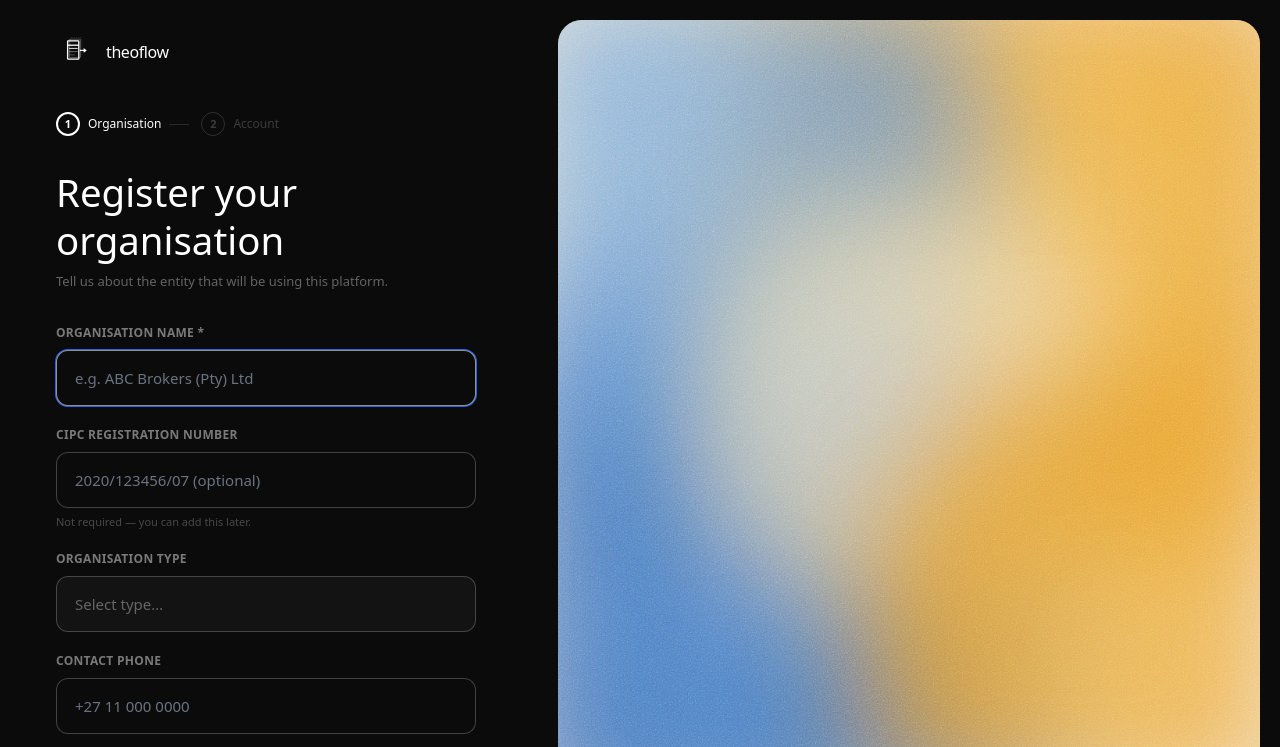
RegisterPage › Step 1 — Organisation › shows free-text field when "Other" industry is selected
The image size is (1280, 747).
Select "Other" in the dropdown. click: (266, 604)
box: [56,576,476,632]
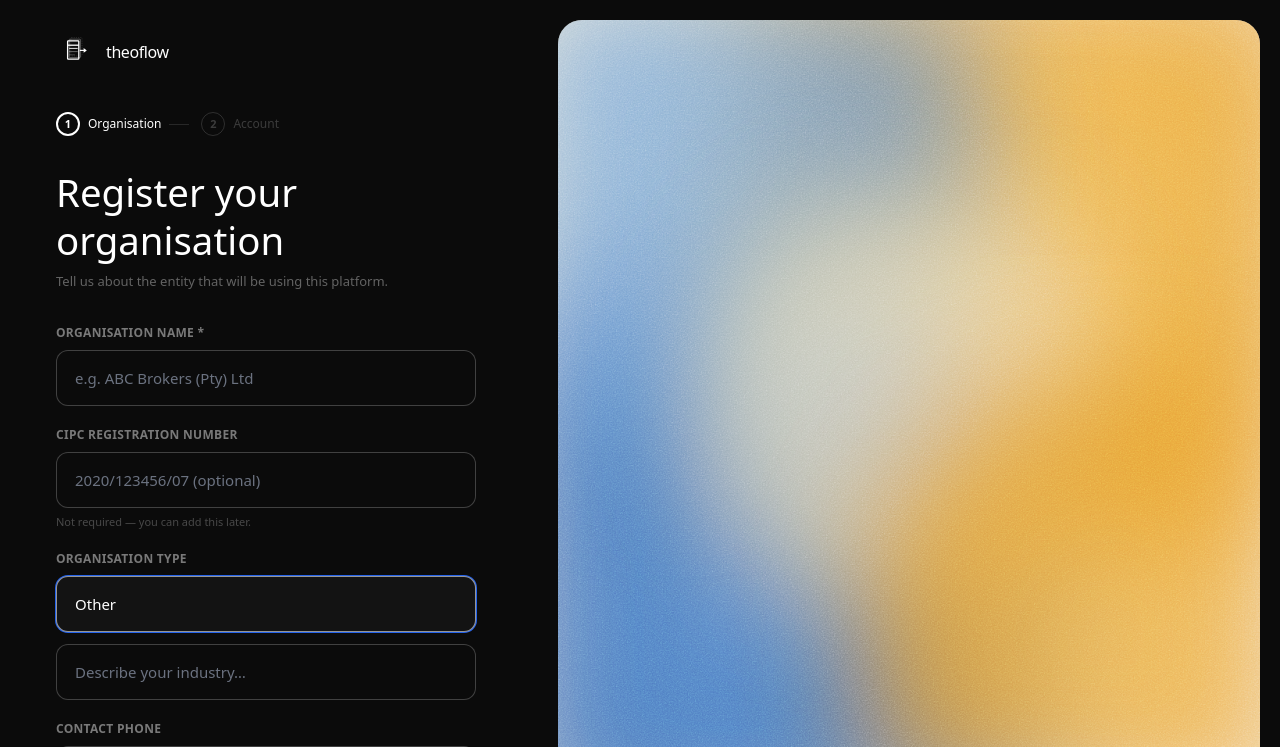
Expected: the field with placeholder "Describe your industry…" is shown, [56,644,476,700]
